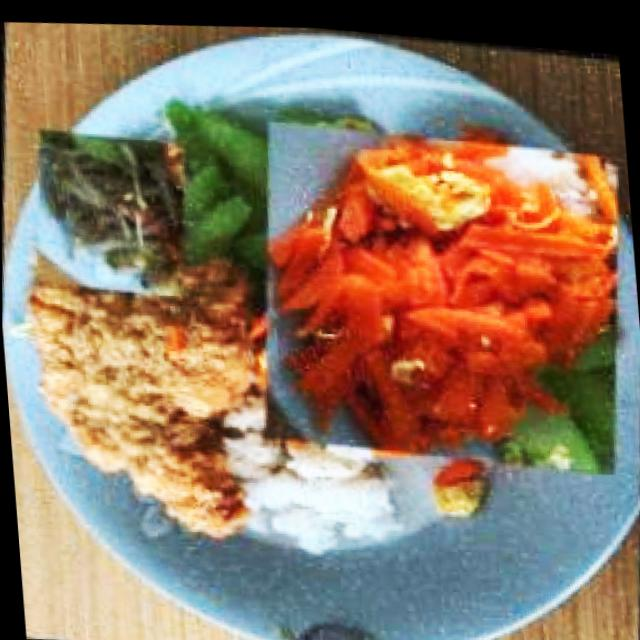carrot_eggs: (261, 102, 637, 488)
fried_chicken: (23, 237, 274, 532)
rice: (254, 445, 391, 551)
